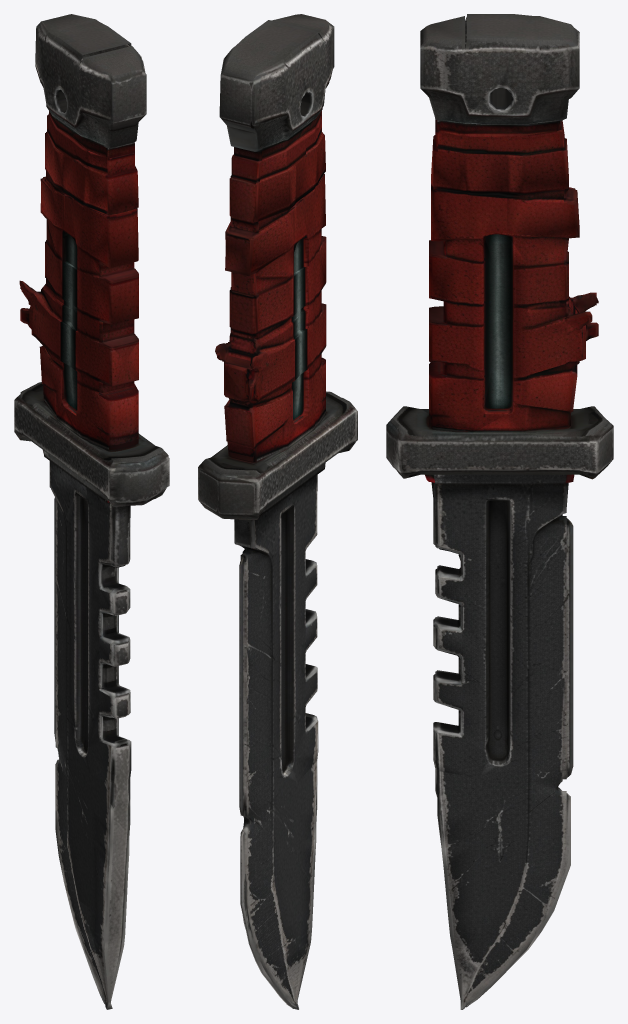
File: tactical_knife.glb
3 renders of one model, left to right at view 1: azimuth 30°, elevation 25°; view 2: azimuth 150°, elevation 25°; view 3: azimuth 270°, elevation 25°, orthographic. The views are drawn at different scales.
Parts seen in each view (by area): view 1: tripo_node_5e4f9cb9-2f22-4ad8-ae3e-ee235b9f7e5e; view 2: tripo_node_5e4f9cb9-2f22-4ad8-ae3e-ee235b9f7e5e; view 3: tripo_node_5e4f9cb9-2f22-4ad8-ae3e-ee235b9f7e5e.
Boxes of the visible parts, <box> form: tripo_node_5e4f9cb9-2f22-4ad8-ae3e-ee235b9f7e5e: <box>14,14,169,1009</box>; tripo_node_5e4f9cb9-2f22-4ad8-ae3e-ee235b9f7e5e: <box>198,14,357,1009</box>; tripo_node_5e4f9cb9-2f22-4ad8-ae3e-ee235b9f7e5e: <box>386,14,613,1009</box>.
Bounding box in the file's own units: 0.0194 × 0.3 × 0.0628.
1 material, 1 textured.
